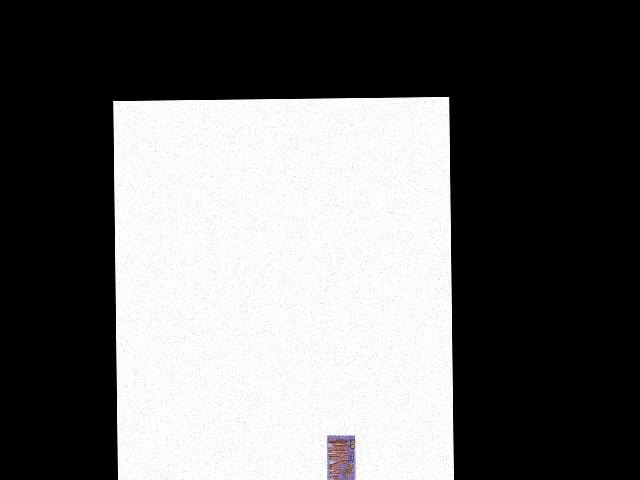chocolate: (323, 433, 356, 480)
